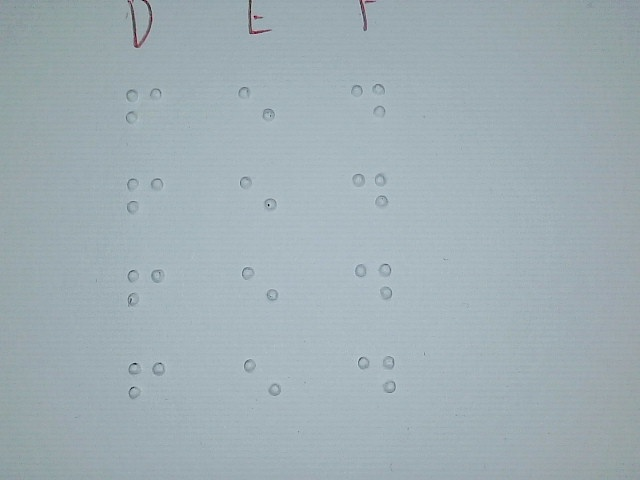D: (350, 72, 389, 140), (351, 162, 390, 230), (354, 250, 393, 318), (357, 344, 396, 412)
E: (237, 74, 276, 142), (239, 164, 278, 232), (240, 255, 279, 323), (243, 346, 282, 414)
F: (124, 78, 163, 146), (126, 167, 165, 235), (127, 258, 166, 326), (127, 351, 166, 419)
